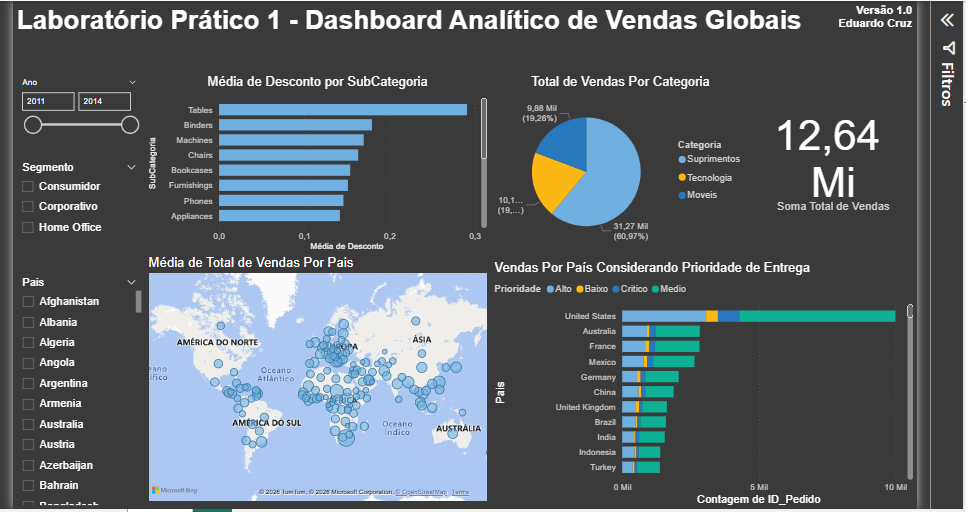

The page's visual inventory and layout, read from the dashboard file:
{"tool":"powerbi","page":{"name":"Lab1","canvas":[1280,720],"ordinal":0},"visuals":[{"type":"card","fields":{"Values":["Sum(dataset.Total_Vendas)"]},"box":[1044,93.6,236.2,259.2],"z":0},{"type":"pieChart","title":"Total de Vendas Por Categoria","fields":{"Y":["CountNonNull(dataset.ID_Pedido)"],"Category":["dataset.Categoria"]},"box":[676.8,103.7,367.2,256.3],"z":1000},{"type":"barChart","title":"Vendas Por País Considerando Prioridade de Entrega","fields":{"Category":["dataset.Pais"],"Y":["CountNonNull(dataset.ID_Pedido)"],"Series":["dataset.Prioridade"]},"box":[676.8,367.2,603.4,352.8],"z":2000},{"type":"clusteredBarChart","fields":{"Category":["dataset.SubCategoria"],"Y":["Avg(dataset.Desconto)"]},"box":[187.2,103.7,489.6,256.3],"z":3000},{"type":"map","title":"Média de Total de Vendas Por Pais","fields":{"Category":["dataset.Pais"],"Size":["Avg(dataset.Total_Vendas)"]},"box":[187.2,360,489.6,352.8],"z":4000},{"type":"slicer","fields":{"Values":["dataset.Pais"]},"box":[0,385.9,187.2,334.1],"z":5000},{"type":"slicer","fields":{"Values":["dataset.Segmento"]},"box":[0,223.2,187.2,136.8],"z":6000},{"type":"slicer","fields":{"Values":["dataset.Data_Pedido.Variation.Hierarquia de datas.Ano"]},"box":[0,103.7,187.2,119.5],"z":7000},{"type":"textbox","box":[0,0,1123.2,59],"z":8000},{"type":"textbox","box":[1123.2,0,157,74.9],"z":9000}]}

Visuals, with their boxes on the page's 1280x720 design canvas (x1, y1, x2, y2). These are canvas units, not pixel positions in the 970x512 screenshot, which may show the page scaled, cropped or inside an application window:
card - Sum(dataset.Total_Vendas): BBox(1044, 94, 1280, 353)
"Total de Vendas Por Categoria" pieChart: BBox(677, 104, 1044, 360)
"Vendas Por País Considerando Prioridade de Entrega" barChart: BBox(677, 367, 1280, 720)
clusteredBarChart - dataset.SubCategoria x Avg(dataset.Desconto): BBox(187, 104, 677, 360)
"Média de Total de Vendas Por Pais" map: BBox(187, 360, 677, 713)
slicer - dataset.Pais: BBox(0, 386, 187, 720)
slicer - dataset.Segmento: BBox(0, 223, 187, 360)
slicer - dataset.Data_Pedido.Variation.Hierarquia de datas.Ano: BBox(0, 104, 187, 223)
textbox: BBox(0, 0, 1123, 59)
textbox: BBox(1123, 0, 1280, 75)
